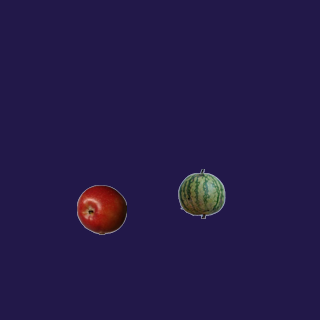Apple Braeburn: (76, 184, 126, 234)
Watermelon: (176, 168, 226, 218)
